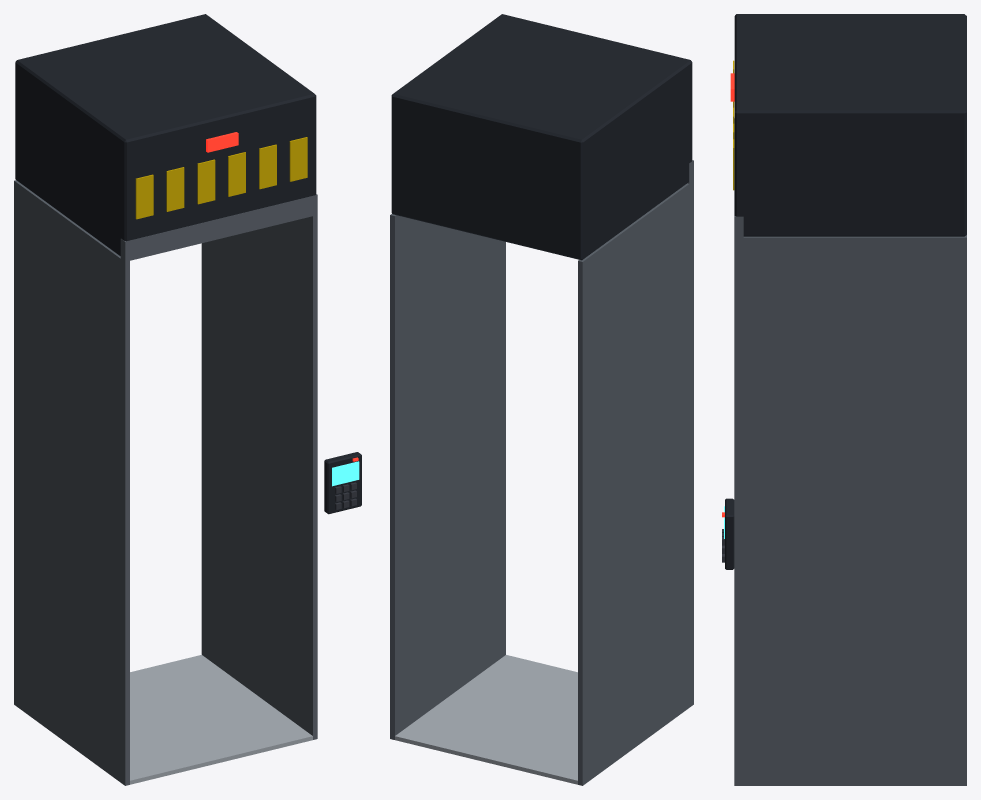
File: door_security_frame.glb
3 views of the same model, side by side, from view 1: azimuth 30°, elevation 25°; view 2: azimuth 150°, elevation 25°; view 3: azimuth 270°, elevation 25° (orthographic). The views are drawn at different scales.
Visible parts, largest first — view 1: door_security_frame, keypad; view 2: door_security_frame; view 3: door_security_frame, keypad.
Boxes of the visible parts, bbox=[...] form: door_security_frame: bbox=[14, 14, 317, 785]; keypad: bbox=[324, 452, 361, 514]; door_security_frame: bbox=[390, 14, 693, 785]; door_security_frame: bbox=[730, 14, 966, 785]; keypad: bbox=[722, 498, 734, 569].
Bounding box in the file's own units: 1.21 × 3.2 × 1.05.
